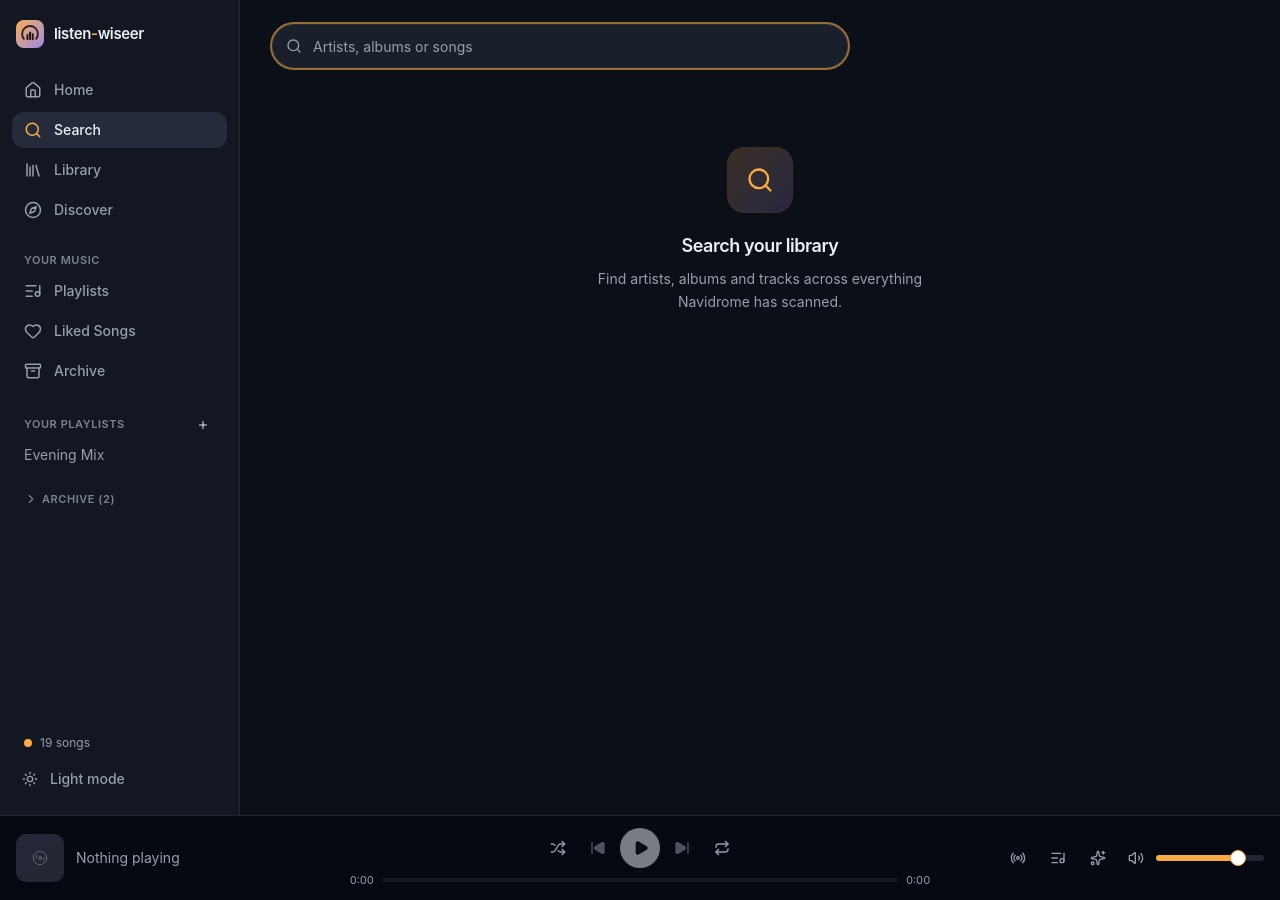
App › searches with debounce
Type "harbour" into the search field named "Search library" at coordinates (560, 46), box [272,24,848,68]
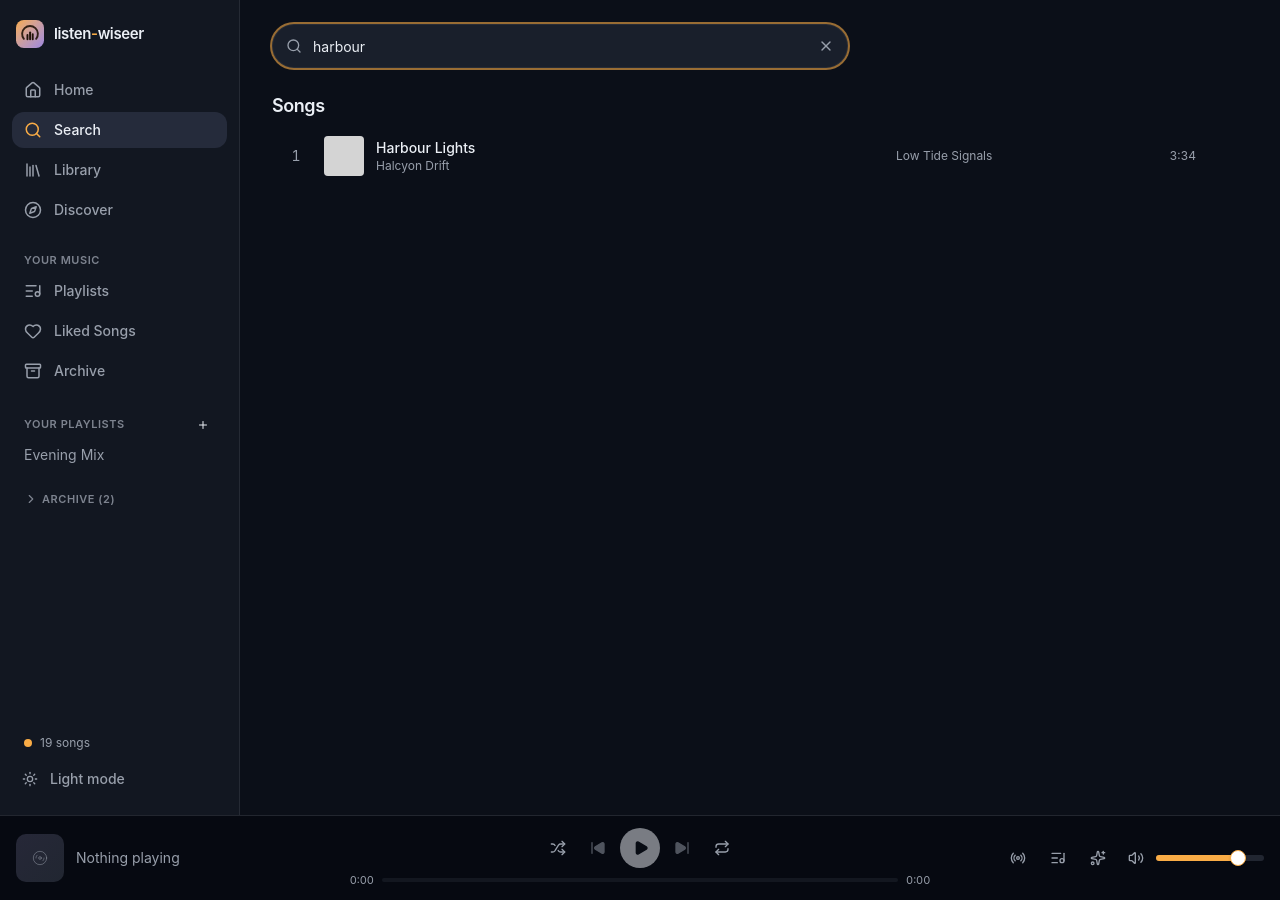
expect the text "Harbour Lights" is shown: met, box [376,138,475,158]
